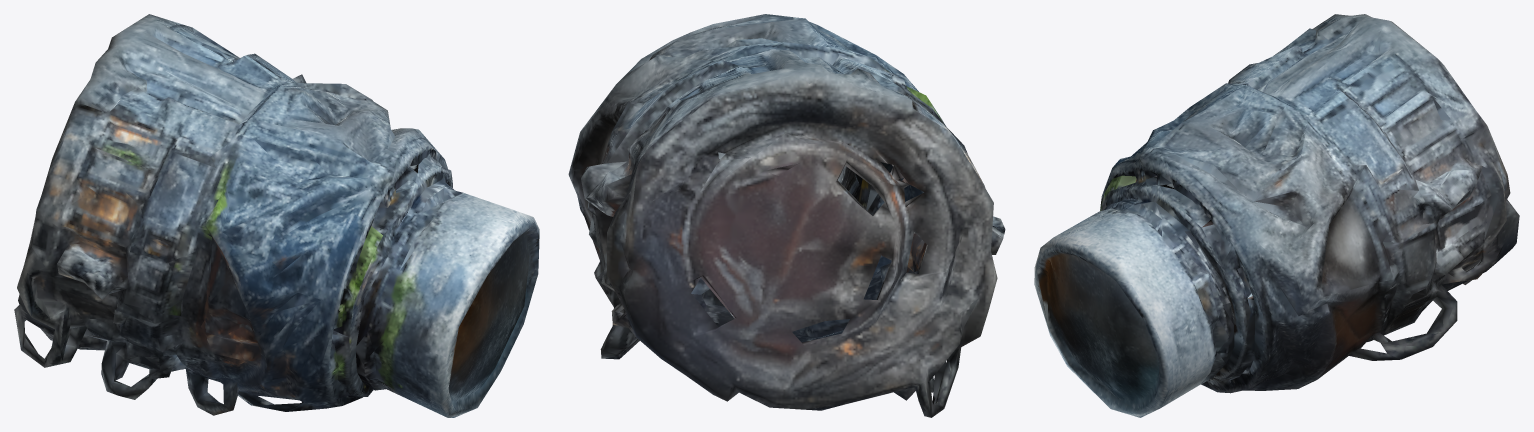
File: wreck_engine.glb
The picture shows the model from 3 angles, left to right: view 1: azimuth 30°, elevation 25°; view 2: azimuth 150°, elevation 25°; view 3: azimuth 270°, elevation 25°; orthographic projection. The views are drawn at different scales.
Visible parts, largest first — view 1: low; view 2: low; view 3: low.
Part boxes in pixels (left/top/right/bottom): low: left=14, top=14, right=539, bottom=417; low: left=568, top=14, right=1005, bottom=417; low: left=1034, top=14, right=1519, bottom=417.
Size of the model in its own units: 4.79 by 3.48 by 5.
1 material, 1 textured.
